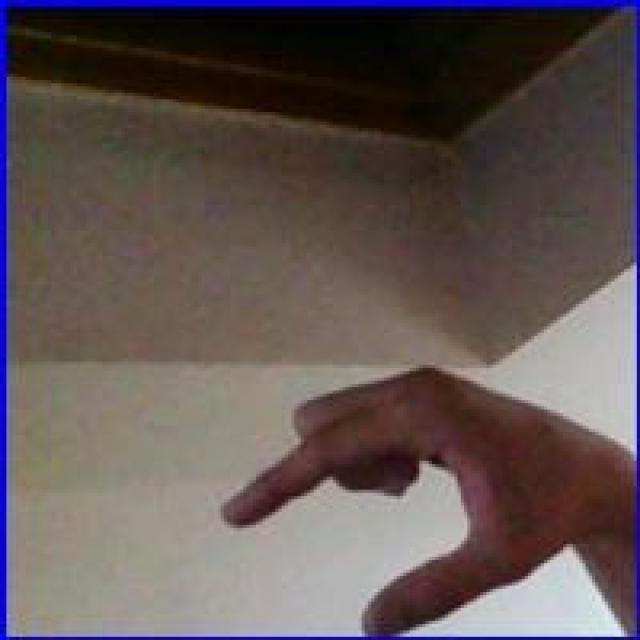Q: (213, 362, 590, 636)
